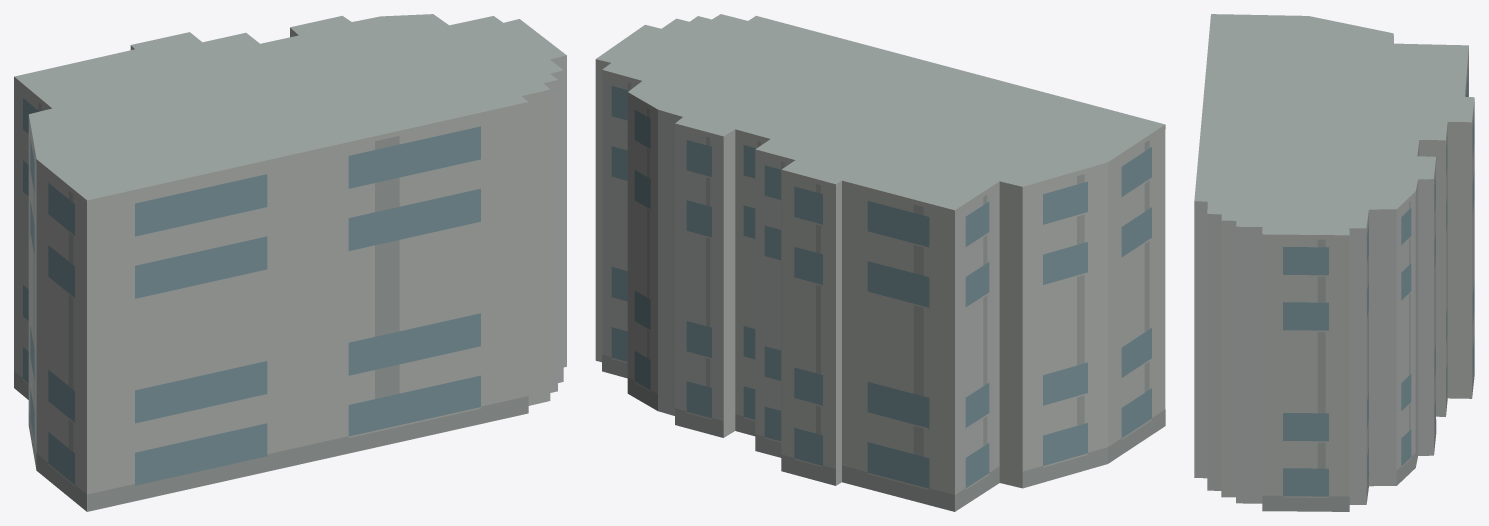
Rendered from survey-upis-32937942.glb.
The picture shows the model from 3 angles, left to right: view 1: azimuth 30°, elevation 25°; view 2: azimuth 150°, elevation 25°; view 3: azimuth 270°, elevation 25°; orthographic projection. The views are drawn at different scales.
Visible parts, largest first — view 1: survey-upis-32937942.tmp; view 2: survey-upis-32937942.tmp; view 3: survey-upis-32937942.tmp.
Part boxes in pixels (bbox=[...]): survey-upis-32937942.tmp: bbox=[14, 14, 566, 511]; survey-upis-32937942.tmp: bbox=[595, 14, 1165, 511]; survey-upis-32937942.tmp: bbox=[1194, 14, 1474, 511].
Size of the model in its own units: 25.23 by 14.7 by 13.52.
